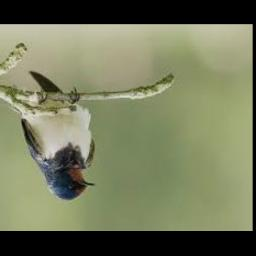Swallow: (22, 71, 97, 200)
